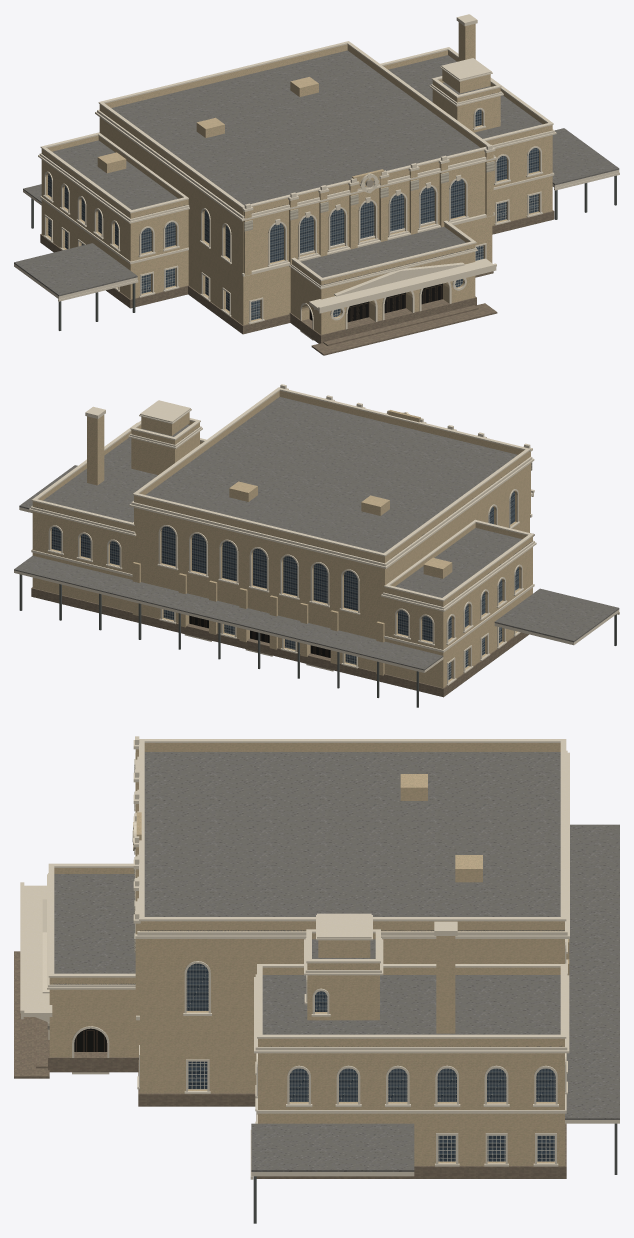
The model's file is tainan-1936.glb.
The picture shows the model from 3 angles, top to bottom: view 1: azimuth 30°, elevation 25°; view 2: azimuth 150°, elevation 25°; view 3: azimuth 270°, elevation 25°; orthographic projection. The views are drawn at different scales.
Parts seen in each view (by area): view 1: archkey; view 2: archkey; view 3: archkey.
Part boxes in pixels (x1=…): archkey: x1=14, y1=14, x2=619, y2=355; archkey: x1=14, y1=384, x2=619, y2=707; archkey: x1=14, y1=736, x2=619, y2=1223.
Bounding box in the file's own units: 68.6 × 19.22 × 44.2.
10 materials, 8 textured.
